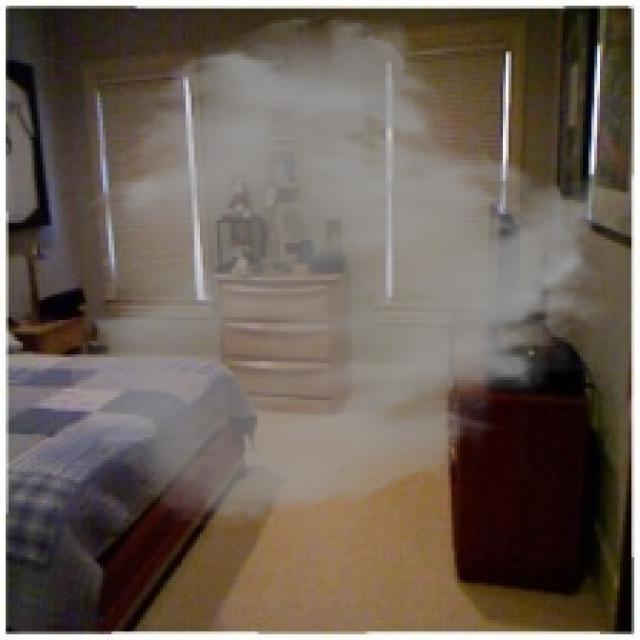Smoke: (66, 11, 623, 532)
